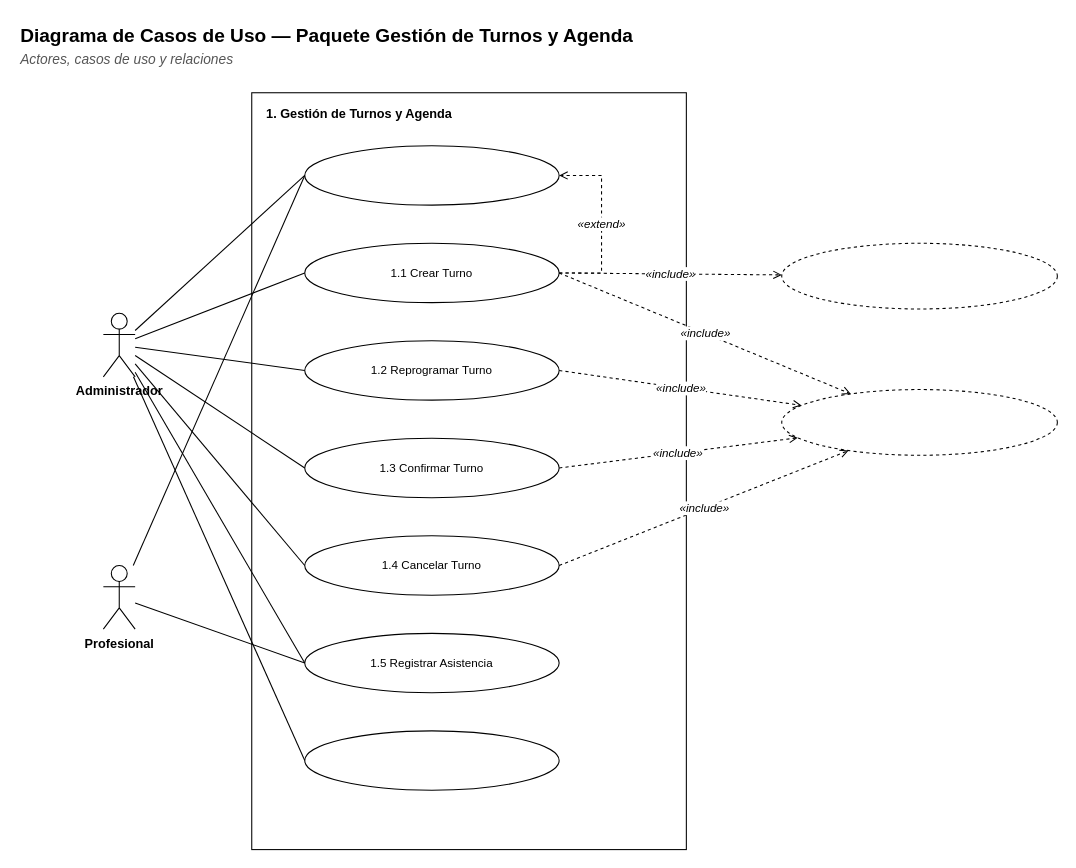
This 1076x868 diagram has some shape labels left out. The shapes that lost their labels are listed below. From the top down, each one's box as (x1, y1, x2, y2) in pixels, then its label:
(304, 145, 559, 205): 1.7 Consultar Agenda
(781, 242, 1057, 309): 2.5 Buscar Paciente (paquete Gestión de Pacientes)
(781, 388, 1057, 455): 8.1 Enviar Notificación de Turno (paquete Notificaciones)
(304, 730, 559, 790): 1.6 Eliminar Turno
